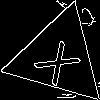X: (33, 32, 90, 88)
